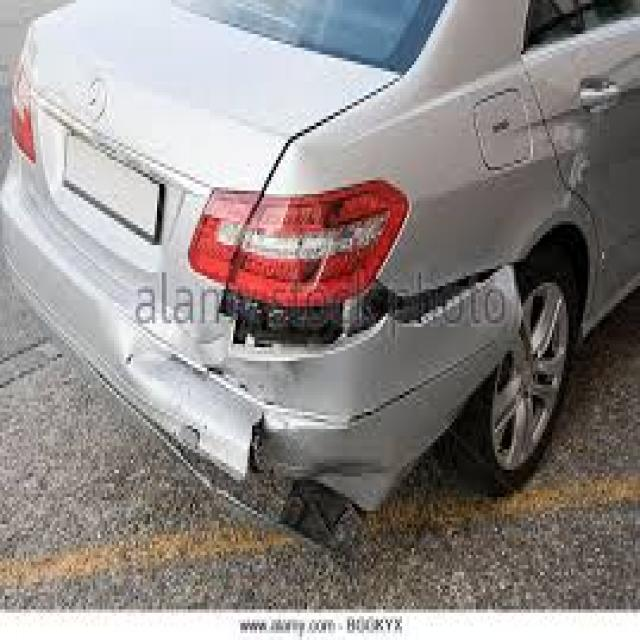moderate: (141, 194, 582, 529)
